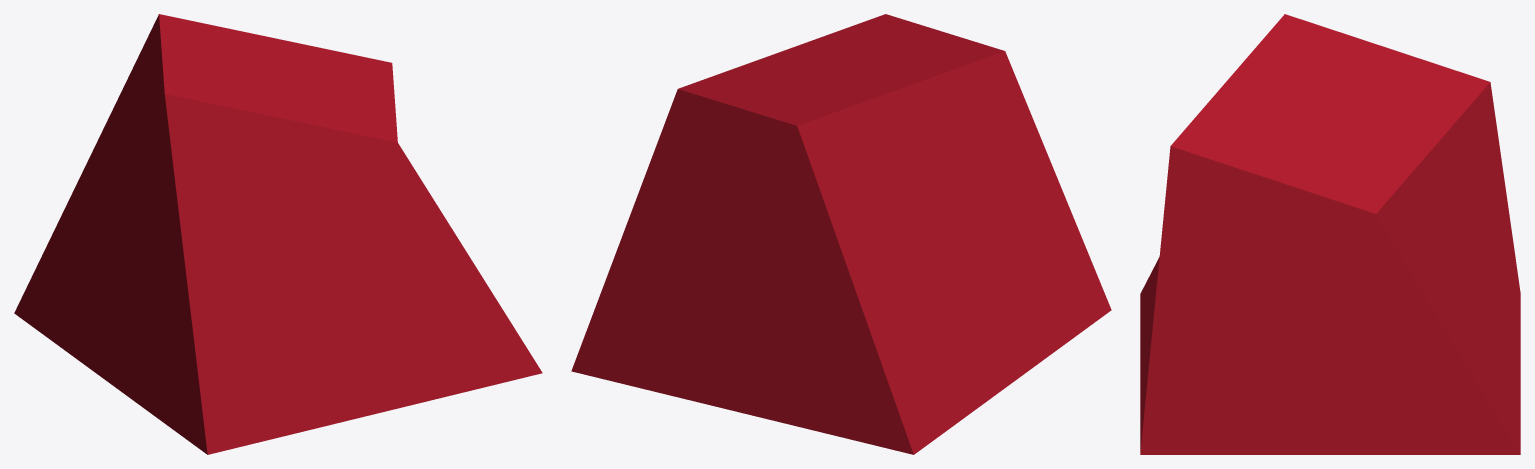
File: tree-dead-leaves-013.glb
3 views of the same model, side by side, from view 1: azimuth 30°, elevation 25°; view 2: azimuth 150°, elevation 25°; view 3: azimuth 270°, elevation 25° (orthographic). The views are drawn at different scales.
Visible parts, largest first — view 1: Cube.085_445; view 2: Cube.085_445; view 3: Cube.085_445.
Boxes of the visible parts, box(x1,y1,x2,y2) form: Cube.085_445: box(14, 14, 542, 454); Cube.085_445: box(571, 14, 1111, 454); Cube.085_445: box(1140, 14, 1520, 454).
Bounding box in the file's own units: 0.6335 × 0.5416 × 0.6335.
